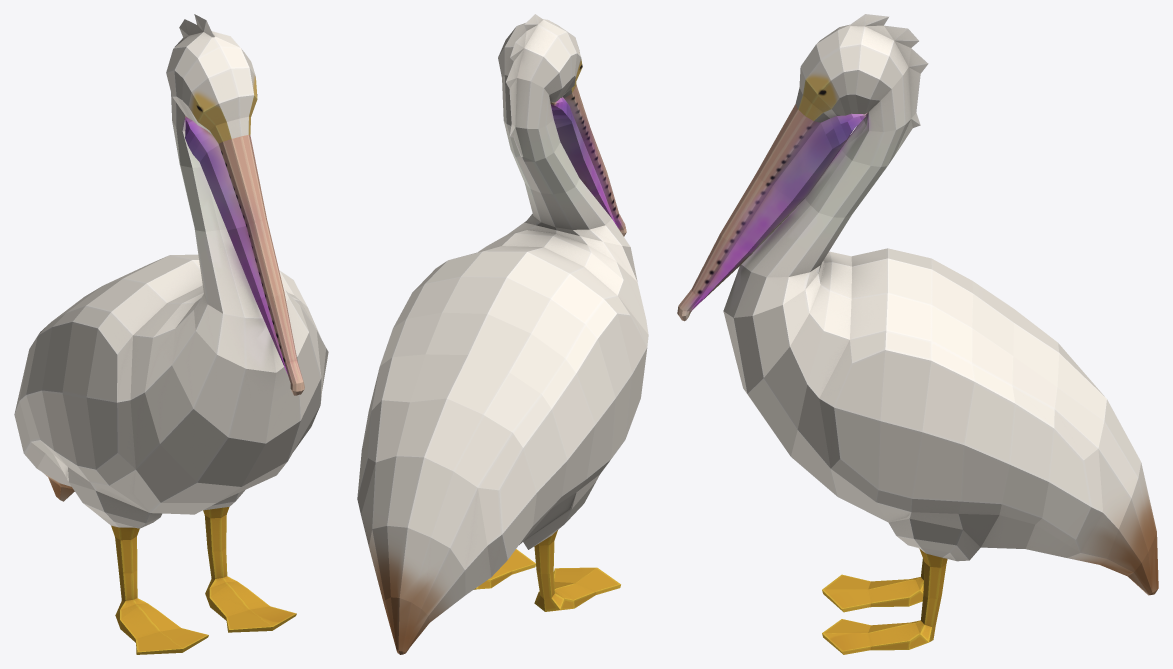
The model's file is SpotBilledPelican.glb.
The picture shows the model from 3 angles, left to right: view 1: azimuth 30°, elevation 25°; view 2: azimuth 150°, elevation 25°; view 3: azimuth 270°, elevation 25°; orthographic projection. The views are drawn at different scales.
Visible parts, largest first — view 1: AmericanWhitePelican; view 2: AmericanWhitePelican; view 3: AmericanWhitePelican.
Boxes of the visible parts, x1,y1,x2,y2 form: AmericanWhitePelican: (14,14,328,654); AmericanWhitePelican: (357,14,648,654); AmericanWhitePelican: (677,14,1158,654).
Size of the model in its own units: 1.73 by 4.38 by 3.16.
Materials: 1 (1 with a texture image).
